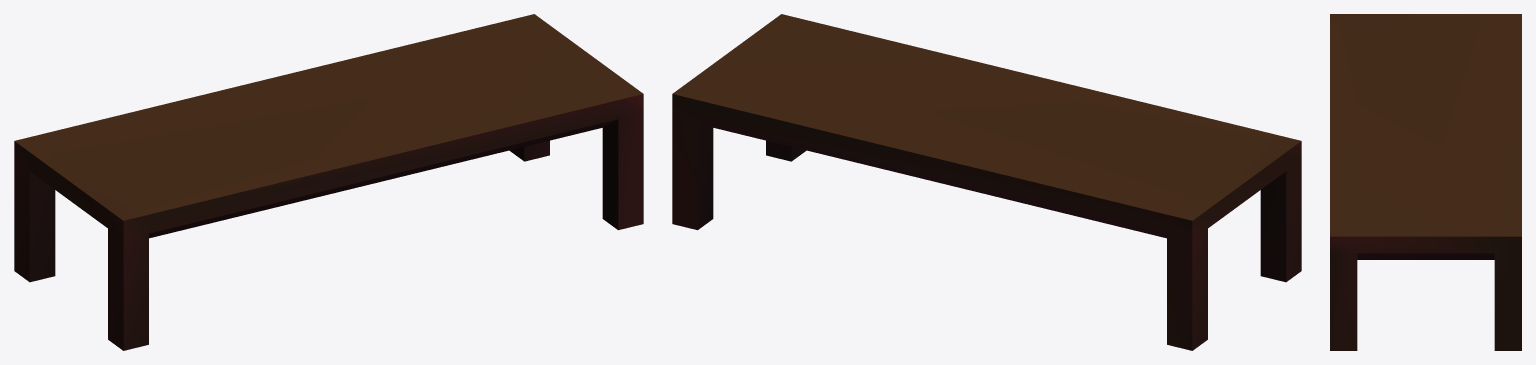
The model's file is coffee_table.FBX.
3 views of the same model, side by side, from view 1: azimuth 30°, elevation 25°; view 2: azimuth 150°, elevation 25°; view 3: azimuth 270°, elevation 25° (orthographic). The views are drawn at different scales.
Visible parts, largest first — view 1: coffee table; view 2: coffee table; view 3: coffee table.
Part boxes in pixels (x1,y1,x2,y2): coffee table: [14, 14, 643, 350]; coffee table: [672, 14, 1301, 350]; coffee table: [1330, 14, 1521, 350].
Size of the model in its own units: 1.87 by 0.4478 by 0.6812.
